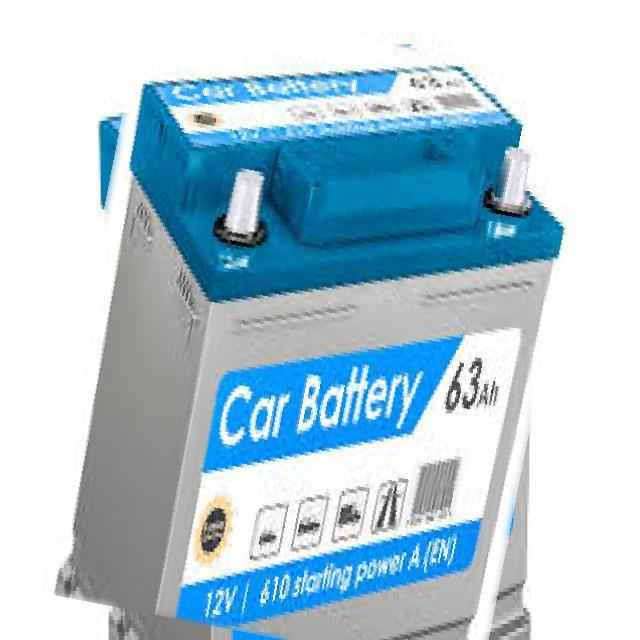Battery: (46, 42, 585, 639)
